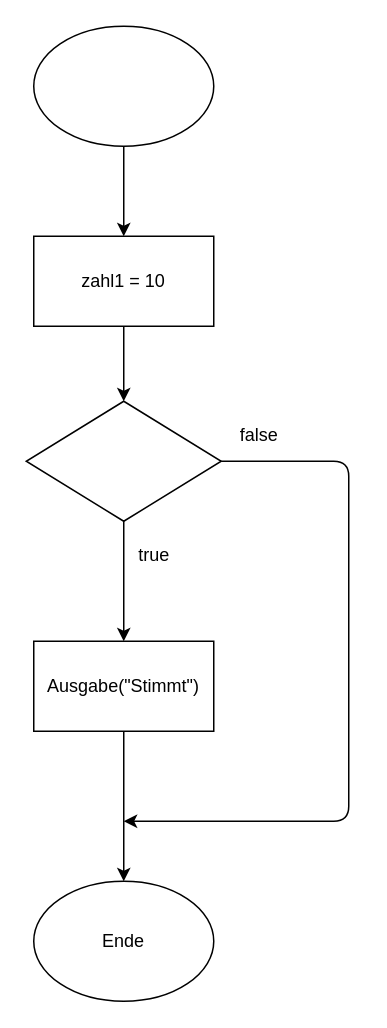
The diagram is 387 pixels wide and 1028 high, and some of its shapes have lost their labels. Each missing label, with the box of its shape:
Start: (32, 25, 214, 146)
zahl1 == 20: (25, 400, 221, 521)
